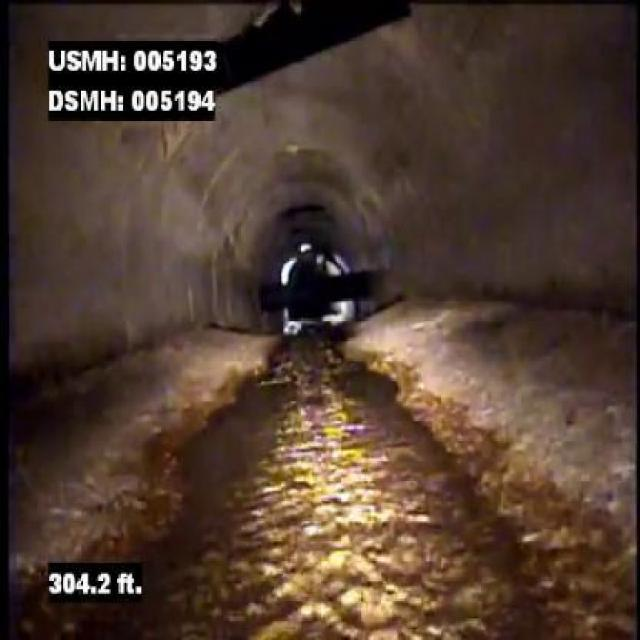Utility intrusion: (217, 0, 434, 106)
